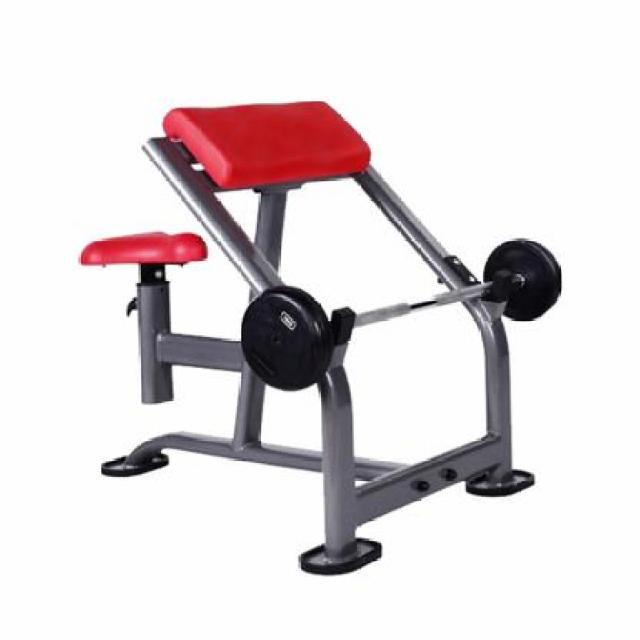arm curl machine: (77, 97, 561, 577)
